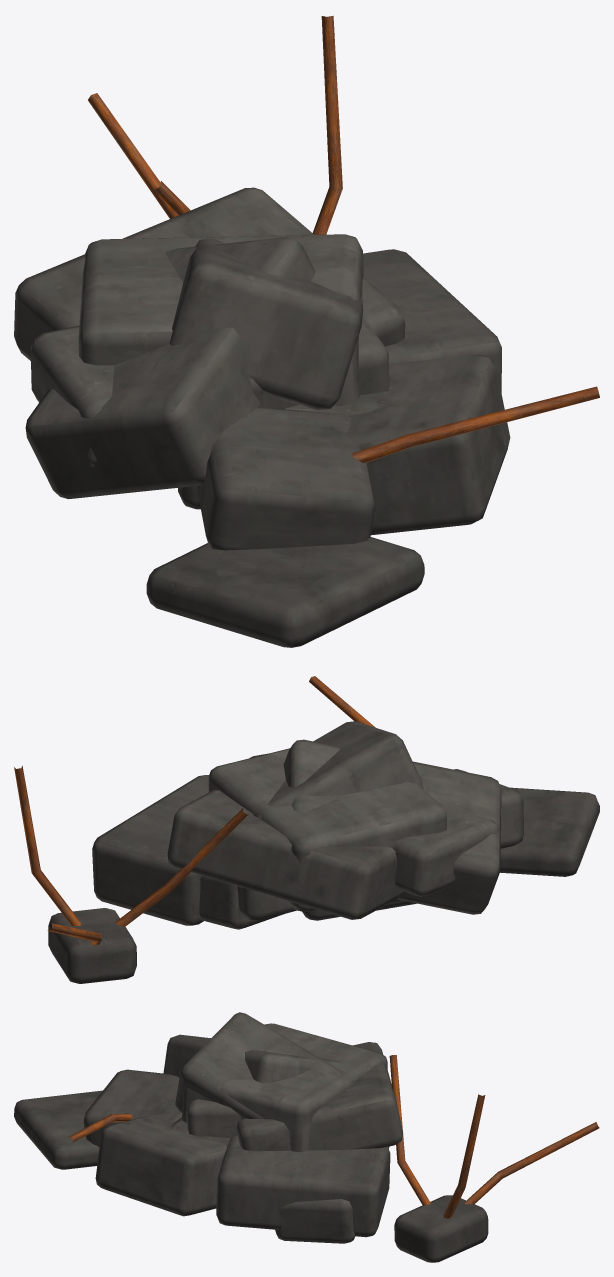
The model's file is prop_rubble.glb.
3 renders of one model, top to bottom at view 1: azimuth 30°, elevation 25°; view 2: azimuth 150°, elevation 25°; view 3: azimuth 270°, elevation 25°, orthographic. The views are drawn at different scales.
Parts seen in each view (by area): view 1: prop; view 2: prop; view 3: prop.
Boxes of the visible parts, x1=… form: prop: x1=14, y1=15, x2=599, y2=647; prop: x1=14, y1=676, x2=599, y2=983; prop: x1=14, y1=1012, x2=599, y2=1262.
Bounding box in the file's own units: 0.6271 × 0.3543 × 1.07.
Materials: 2 (2 with a texture image).
